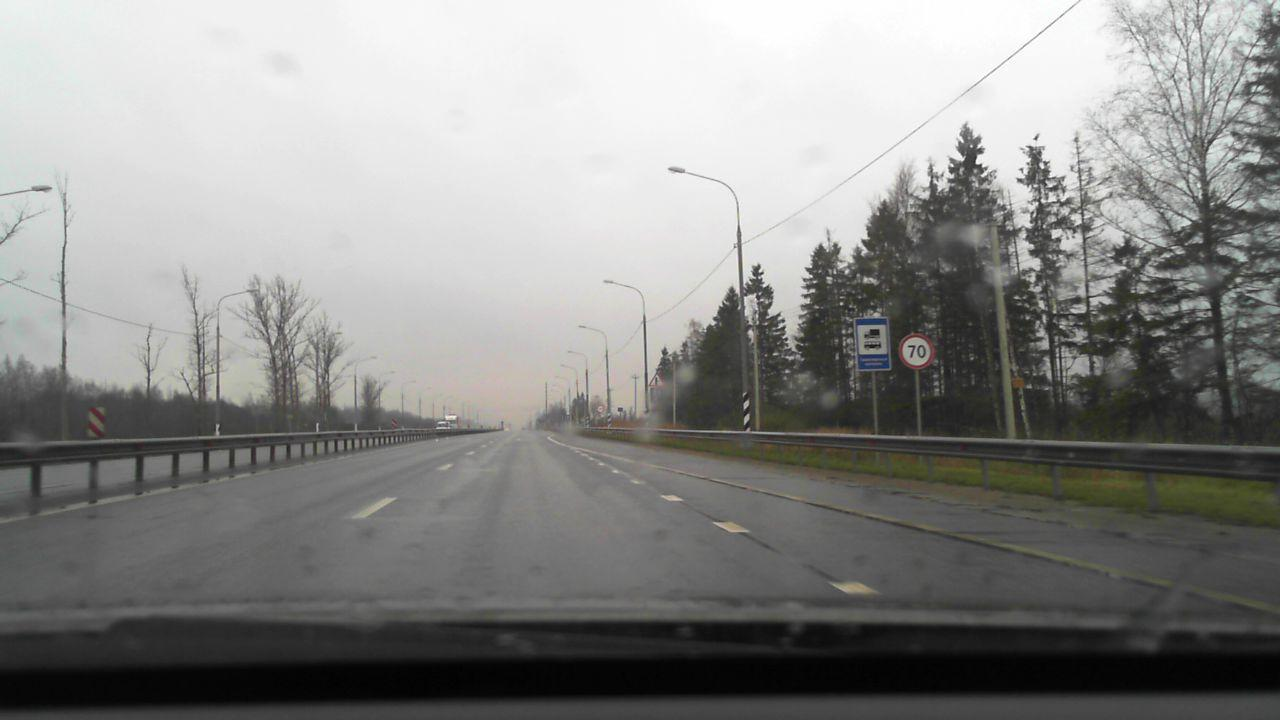2_3_2: (650, 373, 666, 387)
3_24: (898, 332, 935, 368)
7_14_2: (854, 317, 891, 370)
